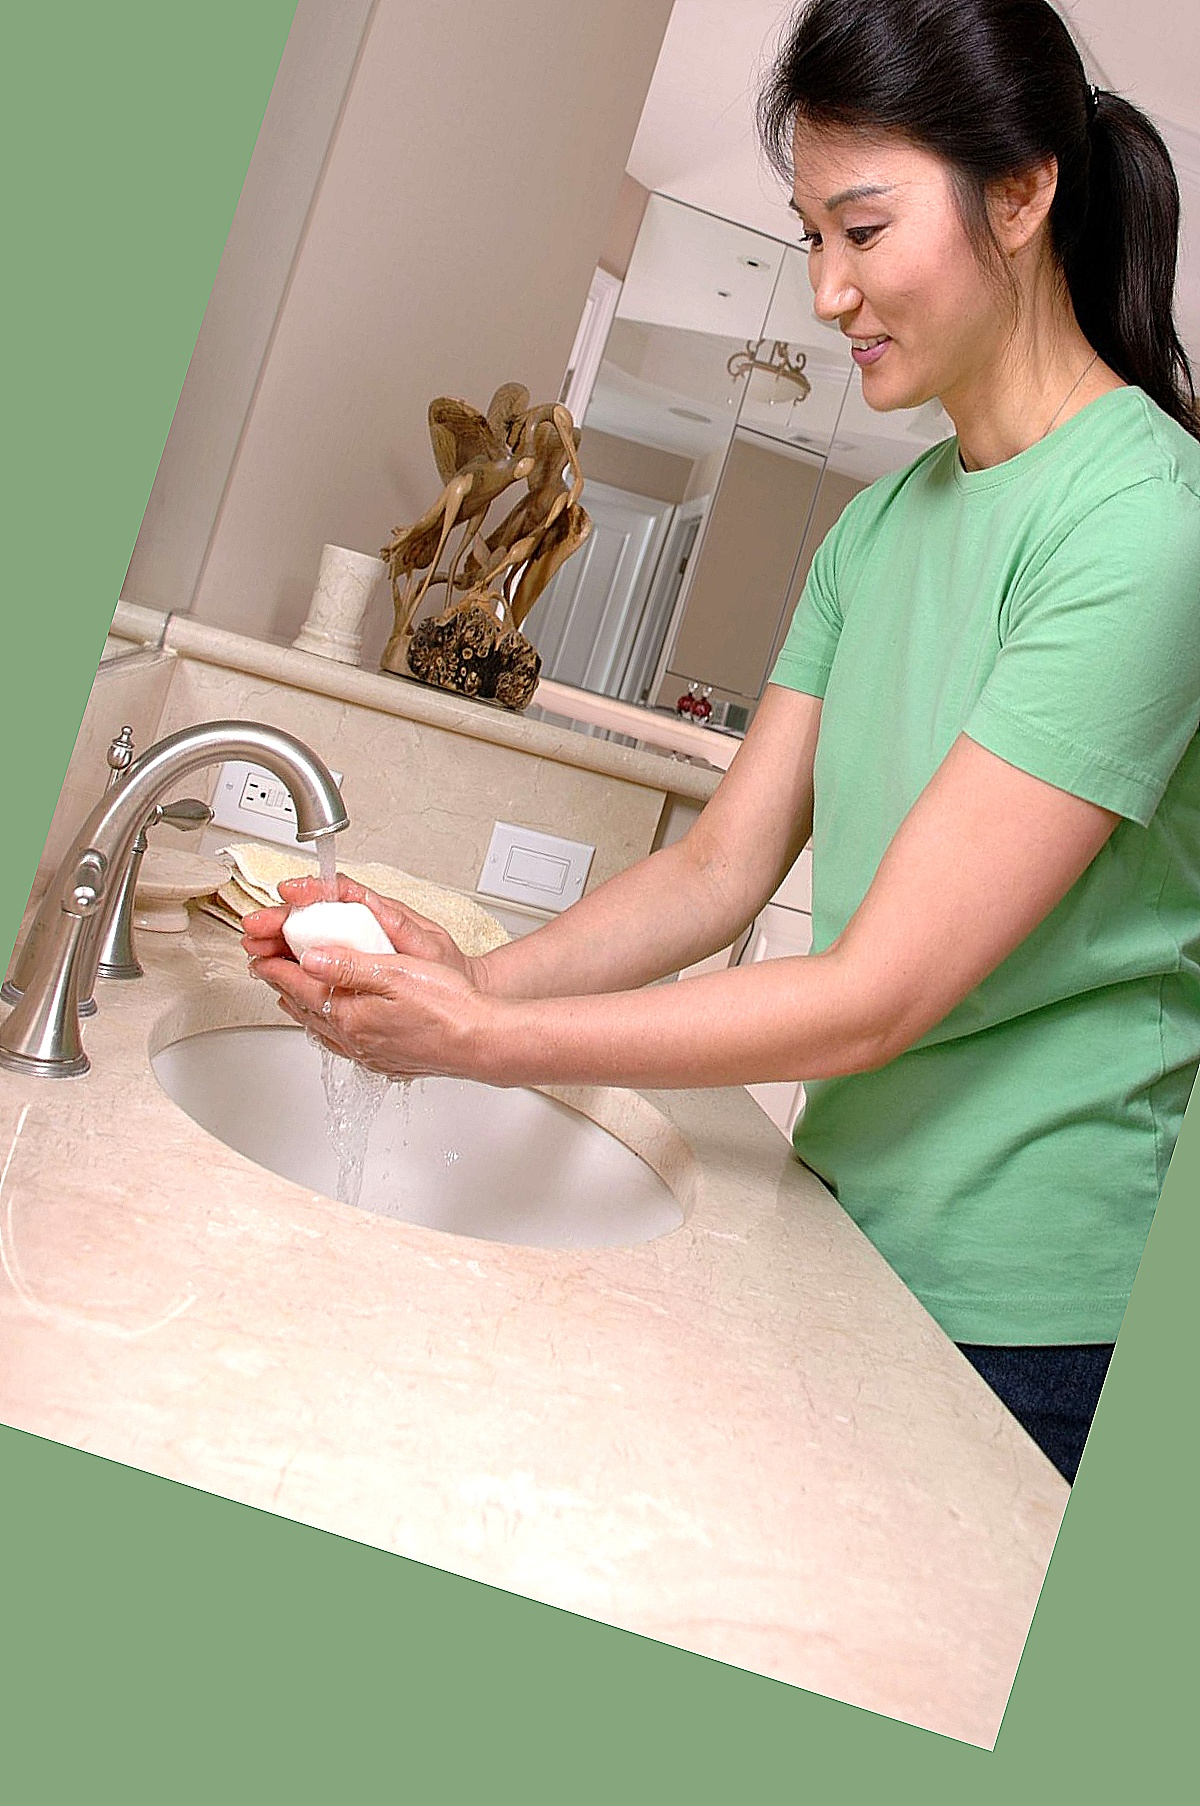washing hand: (1, 610, 579, 1213)
